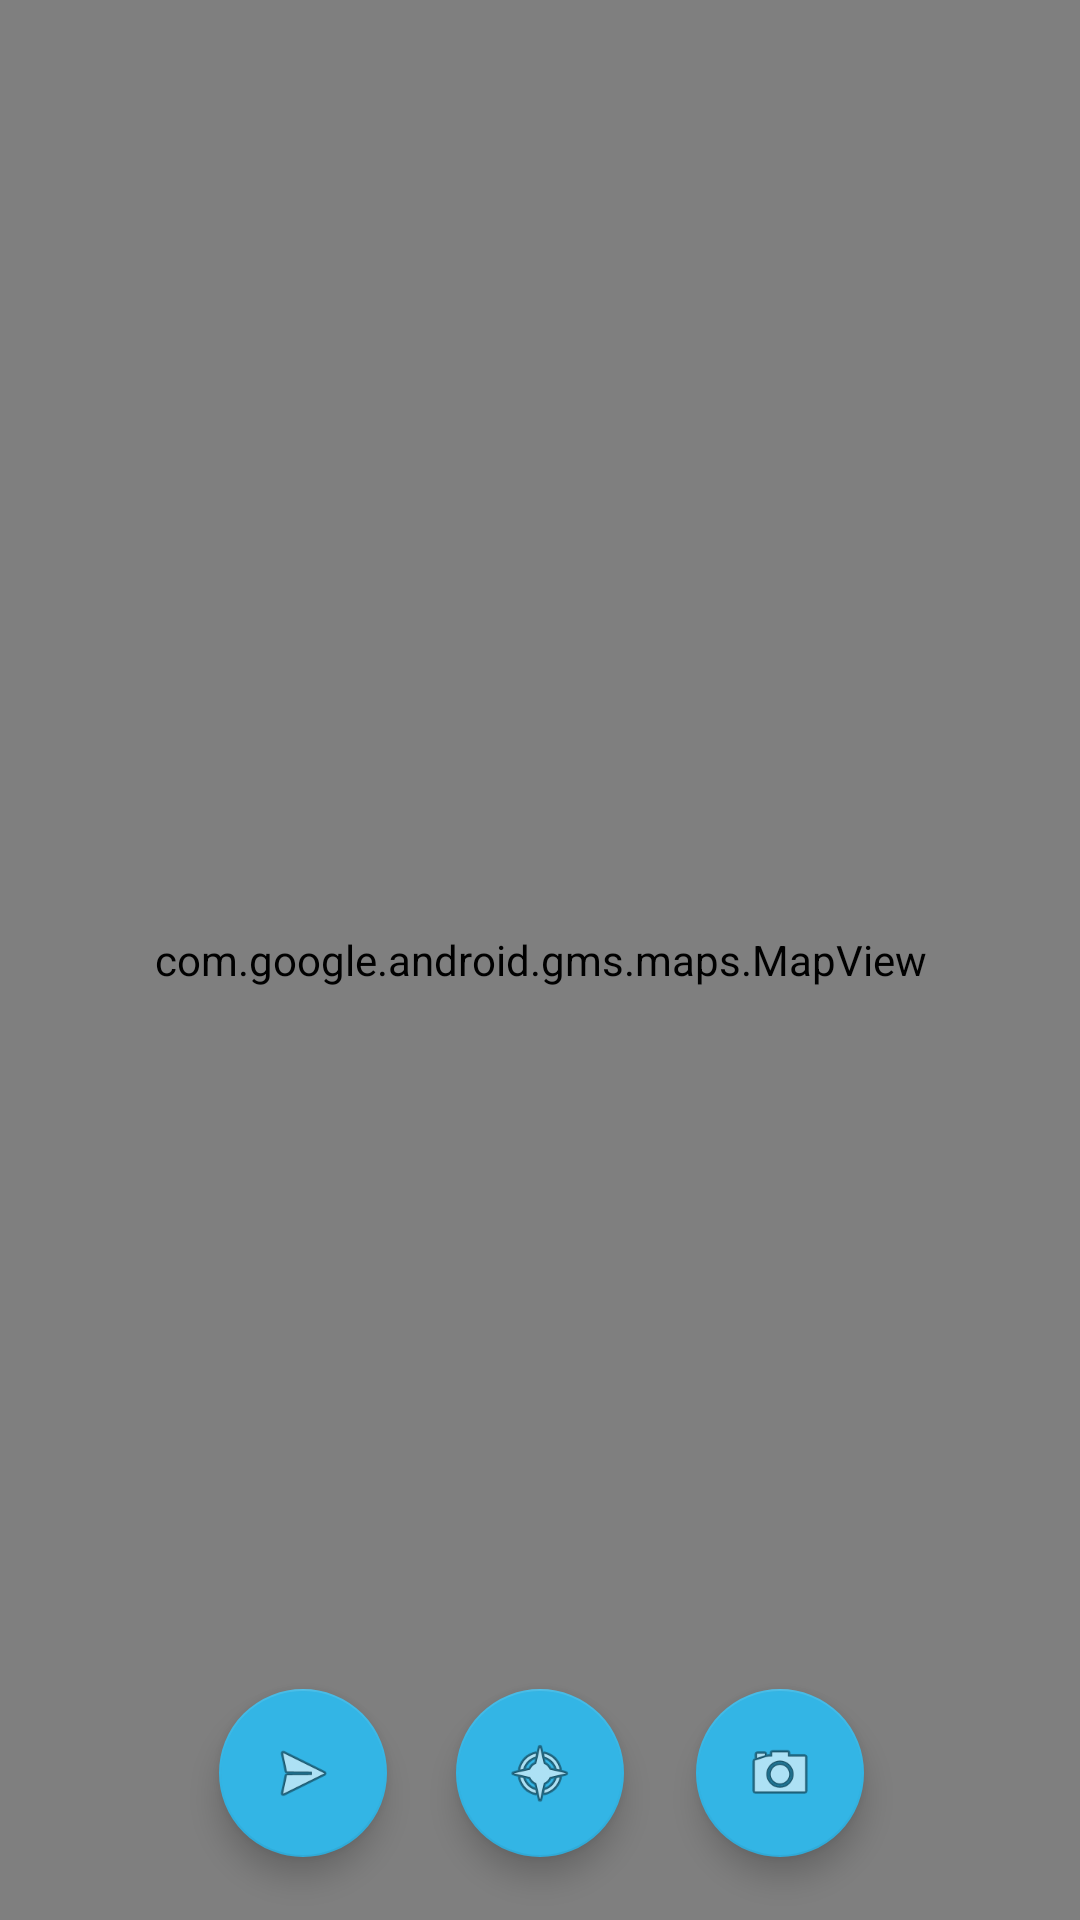

Where icons sit on this 1080*1920 app screen, as (x1, y1, x2, y2):
camera: (696, 1689, 864, 1857)
compass: (456, 1689, 624, 1857)
send: (219, 1689, 387, 1857)
